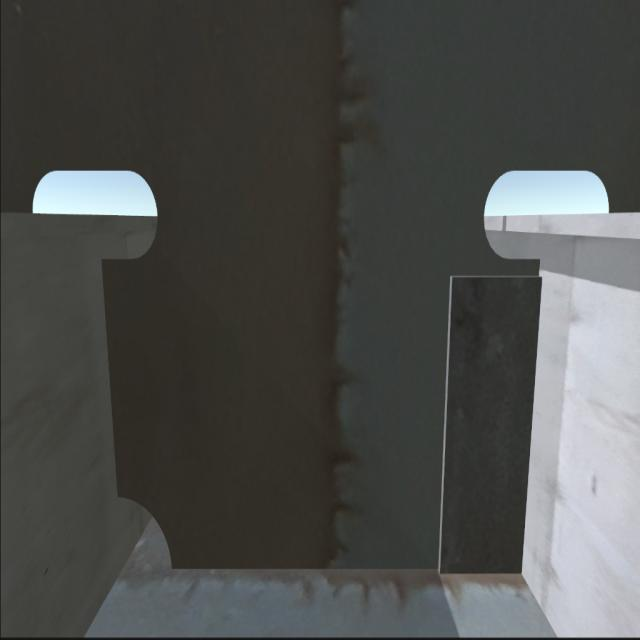fillet_hole: (116, 495, 171, 566)
fillet_yong_jeop_jang: (164, 554, 529, 580)
longi_yong_jeop_jang: (96, 254, 126, 496), (522, 250, 537, 572)
plate_CP01: (448, 273, 522, 579)
